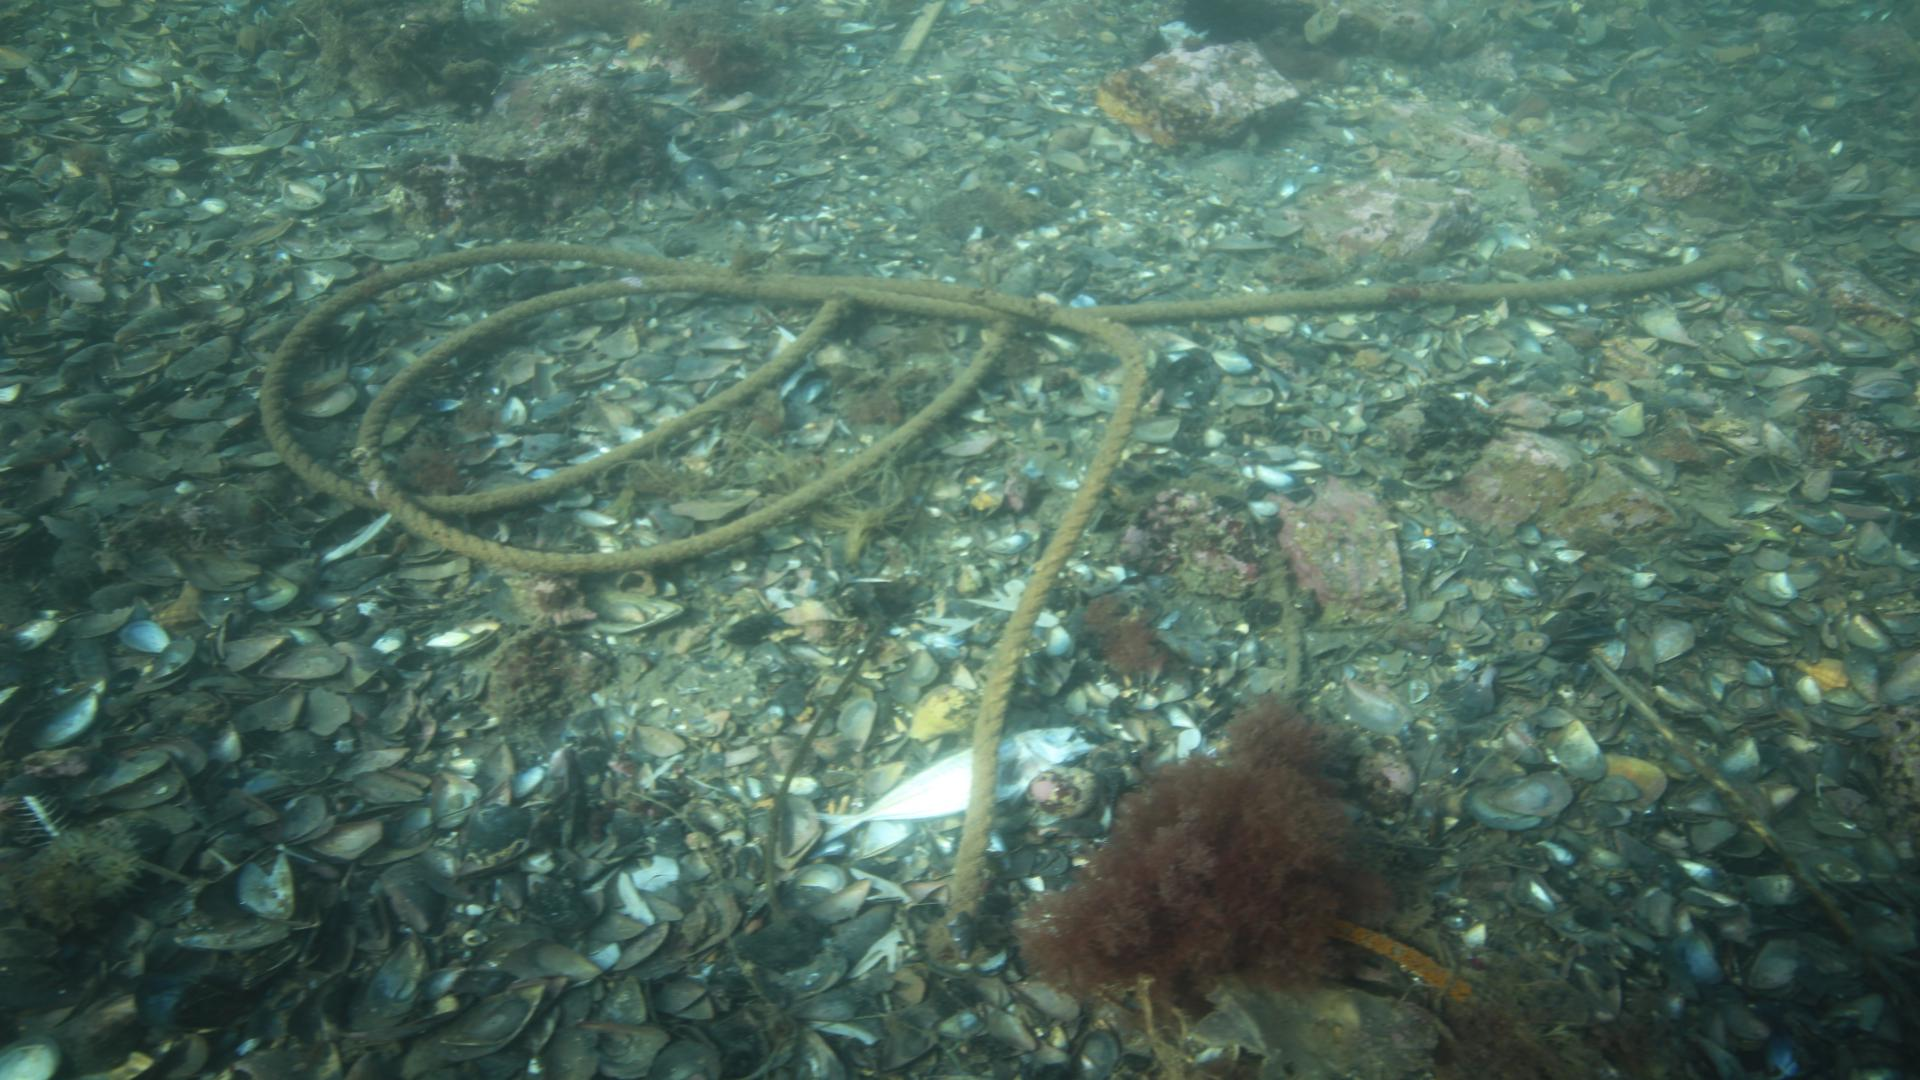bundle of ropes: (255, 241, 1747, 905)
